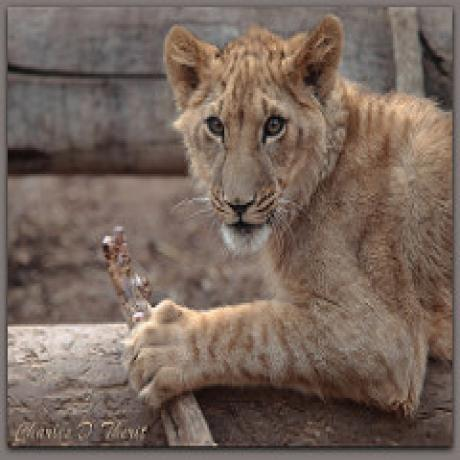Lion: (127, 15, 460, 417)
